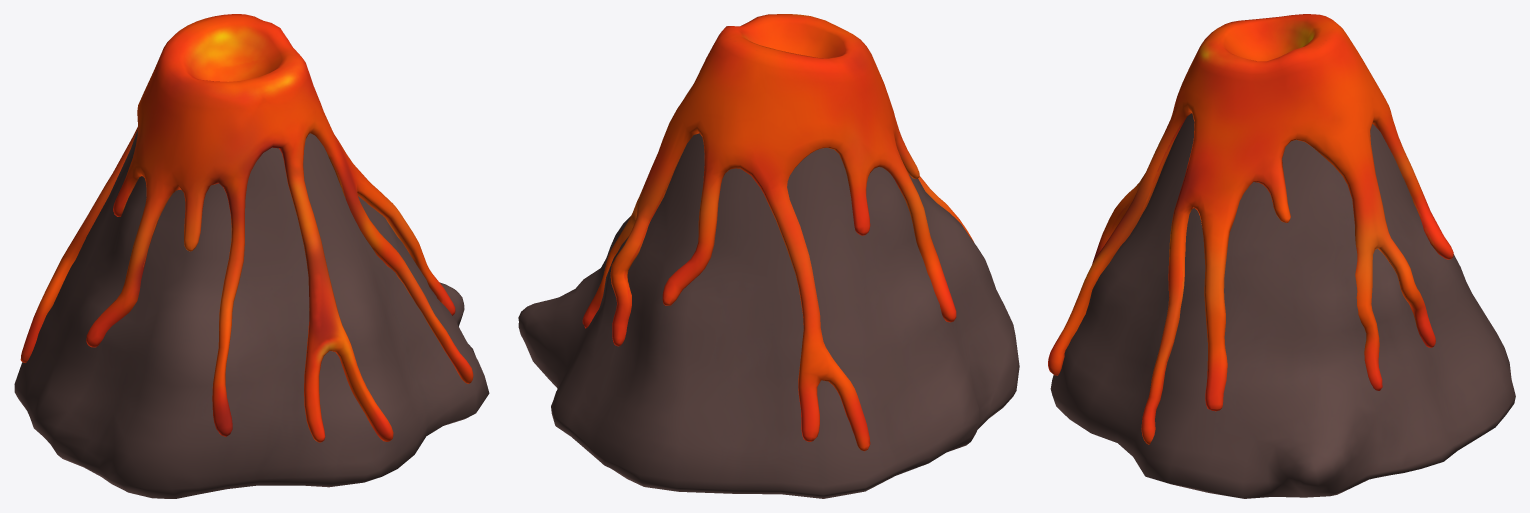
The model's file is cartoon-volcano.glb.
3 views of the same model, side by side, from view 1: azimuth 30°, elevation 25°; view 2: azimuth 150°, elevation 25°; view 3: azimuth 270°, elevation 25° (orthographic).
Parts seen in each view (by area): view 1: node_id192_1; view 2: node_id192_1; view 3: node_id192_1.
Part boxes in pixels (bbox=[...]): node_id192_1: bbox=[14, 14, 489, 498]; node_id192_1: bbox=[518, 14, 1019, 498]; node_id192_1: bbox=[1048, 14, 1515, 498].
Bounding box in the file's own units: 0.6495 × 0.5379 × 0.6149.
Materials: 1 (1 with a texture image).
